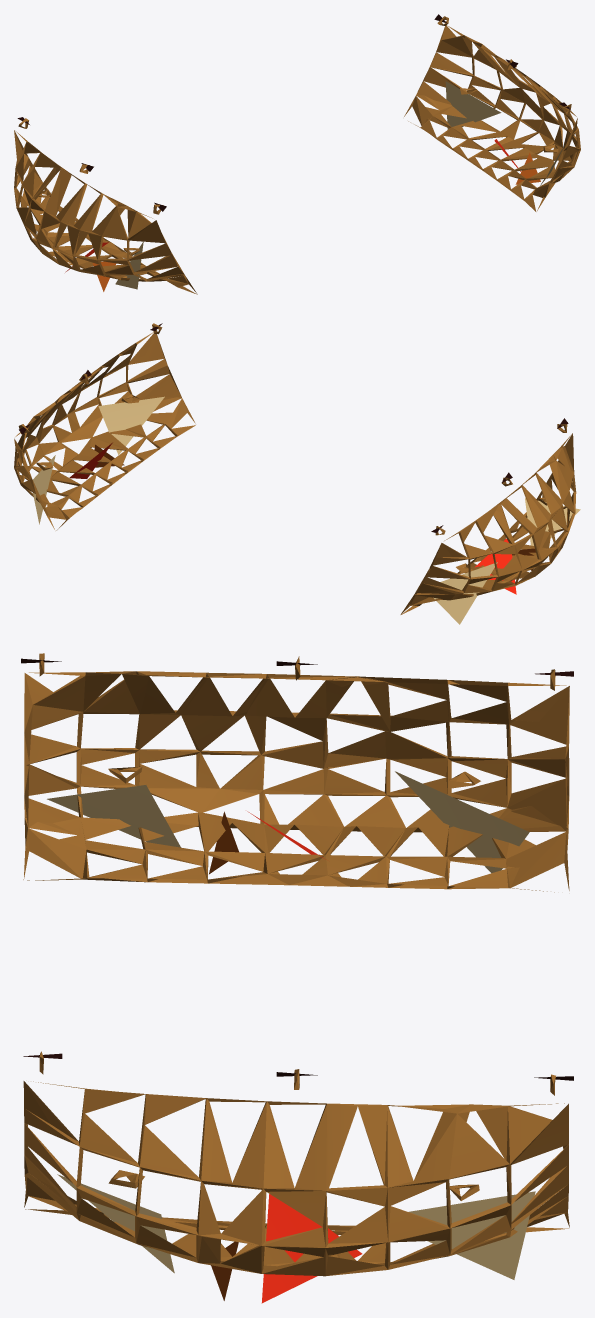
The model's file is tb_upg_cargo_nets.three-web-toon.lod25.glb.
3 views of the same model, one above another, from view 1: azimuth 30°, elevation 25°; view 2: azimuth 150°, elevation 25°; view 3: azimuth 270°, elevation 25° (orthographic). The views are drawn at different scales.
Parts seen in each view (by area): view 1: tb_upg_cargo_nets_mesh_lod; view 2: tb_upg_cargo_nets_mesh_lod; view 3: tb_upg_cargo_nets_mesh_lod.
Part boxes in pixels (x1=…): tb_upg_cargo_nets_mesh_lod: x1=14, y1=14, x2=580, y2=294; tb_upg_cargo_nets_mesh_lod: x1=14, y1=323, x2=580, y2=624; tb_upg_cargo_nets_mesh_lod: x1=21, y1=653, x2=573, y2=1303.
Size of the model in its own units: 4.5 by 1.01 by 2.13.
